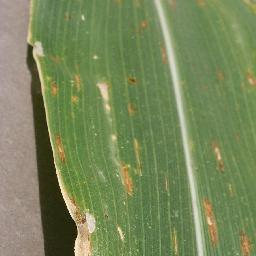Gray_Leaf_Spot: (56, 193, 100, 256), (95, 76, 118, 166), (119, 135, 147, 199), (161, 172, 182, 256), (22, 0, 47, 66), (49, 127, 73, 191), (37, 66, 60, 127), (201, 196, 223, 246), (208, 140, 228, 175), (68, 69, 85, 105), (238, 223, 256, 256), (122, 101, 145, 117), (111, 221, 128, 242), (158, 42, 170, 71), (130, 17, 151, 33), (120, 74, 142, 88), (194, 0, 221, 11), (213, 62, 226, 84), (59, 11, 87, 21), (244, 67, 256, 89), (243, 0, 256, 16), (157, 0, 177, 10), (48, 52, 64, 63), (91, 50, 100, 61)
